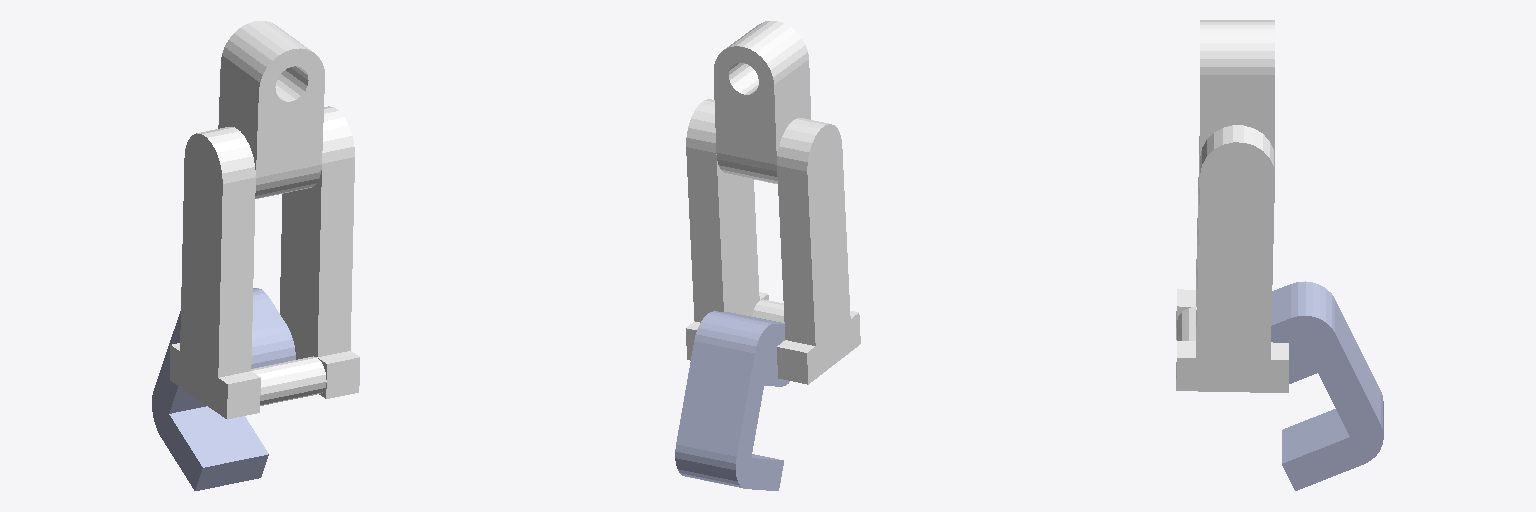
The robot description file, URDF, robot "claw and rod":
<?xml version="1.0" encoding="utf-8"?>
<!-- This URDF was automatically created by SolidWorks to URDF Exporter! Originally created by Stephen Brawner (brawner@gmail.com) 
     Commit Version: 1.5.1-0-g916b5db  Build Version: 1.5.7152.31018
     For more information, please see http://wiki.ros.org/sw_urdf_exporter -->
<robot
  name="claw and rod">
  <link
    name="P_base_Link">
    <inertial>
      <origin
        xyz="-0.00628475211178421 1.66533453693773E-16 -0.201786859514905"
        rpy="0 0 0" />
      <mass
        value="6.45985390928753" />
      <inertia
        ixx="0.0831917714950416"
        ixy="-2.1074179727687E-18"
        ixz="-0.00141801465827443"
        iyy="0.0556863824606013"
        iyz="4.33680868994202E-18"
        izz="0.0377072153961648" />
    </inertial>
    <visual>
      <origin
        xyz="0 0 0"
        rpy="0 0 0" />
      <geometry>
        <mesh
          filename="../meshes/P_base_Link.STL" />
      </geometry>
      <material
        name="">
        <color
          rgba="1 1 1 0.5" />
      </material>
    </visual>
    <collision>
      <origin
        xyz="0 0 0"
        rpy="0 0 0" />
      <geometry>
        <mesh
          filename="../meshes/P_base_Link.STL" />
      </geometry>
    </collision>
  </link>
  <link
    name="P_1_Link">
    <inertial>
      <origin
        xyz="-0.0624987499885627 -0.000395284538354929 8.43769498715119E-15"
        rpy="0 0 0" />
      <mass
        value="2.29977871437821" />
      <inertia
        ixx="0.00397637430948402"
        ixy="-3.76691550020759E-05"
        ixz="4.87890977618477E-18"
        iyy="0.00993203585865657"
        iyz="9.14795583034644E-20"
        izz="0.00993227410397424" />
    </inertial>
    <visual>
      <origin
        xyz="0 0 0"
        rpy="0 0 0" />
      <geometry>
        <mesh
          filename="../meshes/P_1_Link.STL" />
      </geometry>
      <material
        name="">
        <color
          rgba="1 1 1 0.5" />
      </material>
    </visual>
    <collision>
      <origin
        xyz="0 0 0"
        rpy="0 0 0" />
      <geometry>
        <mesh
          filename="../meshes/P_1_Link.STL" />
      </geometry>
    </collision>
  </link>
  <joint
    name="P_base_to_1_Link"
    type="revolute">
    <origin
      xyz="-0.011518 0 -0.36982"
      rpy="-1.5708 -1.5397 0" />
    <parent
      link="P_base_Link" />
    <child
      link="P_1_Link" />
    <axis
      xyz="0 0 1" />
    <limit
      lower="-3.14"
      upper="3.14"
      effort="200000000000000000000000000"
      velocity="20" />
  </joint>
  <link
    name="P_2_Link">
    <inertial>
      <origin
        xyz="0.156837405573848 0.0261395675956409 -1.76941794549634E-16"
        rpy="0 0 0" />
      <mass
        value="6.27444678594554" />
      <inertia
        ixx="0.0415576369787409"
        ixy="-0.0123362492996854"
        ixz="5.89331643381652E-17"
        iyy="0.113519091226907"
        iyz="1.34441069388203E-17"
        izz="0.0901215297519563" />
    </inertial>
    <visual>
      <origin
        xyz="0 0 0"
        rpy="0 0 0" />
      <geometry>
        <mesh
          filename="../meshes/P_2_Link.STL" />
      </geometry>
      <material
        name="">
        <color
          rgba="1 1 1 0.5" />
      </material>
    </visual>
    <collision>
      <origin
        xyz="0 0 0"
        rpy="0 0 0" />
      <geometry>
        <mesh
          filename="../meshes/P_2_Link.STL" />
      </geometry>
    </collision>
  </link>
  <joint
    name="P_1_to_2_Link"
    type="revolute">
    <origin
      xyz="-0.125 -0.00079057 0"
      rpy="1.5708 0.18691 -3.1353" />
    <parent
      link="P_1_Link" />
    <child
      link="P_2_Link" />
    <axis
      xyz="0 0 -1" />
    <limit
      lower="-3.14"
      upper="3.14"
      effort="2000000000000000000"
      velocity="20" />
  </joint>
  <link
    name="P_left_Link">
    <inertial>
      <origin
        xyz="0.0490265983564535 -0.0687165524722106 7.04297731246584E-16"
        rpy="0 0 0" />
      <mass
        value="2.8207521601036" />
      <inertia
        ixx="0.0192159768785392"
        ixy="0.00134300200064639"
        ixz="-3.3684806246409E-17"
        iyy="0.00699321135143647"
        iyz="1.9635335448098E-17"
        izz="0.0215079346298031" />
    </inertial>
    <visual>
      <origin
        xyz="0 0 0"
        rpy="0 0 0" />
      <geometry>
        <mesh
          filename="../meshes/P_left_Link.STL" />
      </geometry>
      <material
        name="">
        <color
          rgba="0.792156862745098 0.819607843137255 0.933333333333333 1" />
      </material>
    </visual>
    <collision>
      <origin
        xyz="0 0 0"
        rpy="0 0 0" />
      <geometry>
        <mesh
          filename="../meshes/P_left_Link.STL" />
      </geometry>
    </collision>
  </link>
  <joint
    name="P_2_to_left_Link"
    type="revolute">
    <origin
      xyz="0.30414 0 0"
      rpy="3.1416 0 -1.4056" />
    <parent
      link="P_2_Link" />
    <child
      link="P_left_Link" />
    <axis
      xyz="0 0 -1" />
    <limit
      lower="-3.14"
      upper="3.14"
      effort="50000000000000000000000"
      velocity="20" />
  </joint>
  <link
    name="P_right_Link">
    <inertial>
      <origin
        xyz="-0.0662799837749544 0.0522736614449653 1.04777297948999E-15"
        rpy="0 0 0" />
      <mass
        value="2.8207521601036" />
      <inertia
        ixx="0.0175401394644868"
        ixy="0.00441345568788353"
        ixz="6.45710156350898E-17"
        iyy="0.00866904876548891"
        iyz="-8.60483830456699E-17"
        izz="0.021507934629803" />
    </inertial>
    <visual>
      <origin
        xyz="0 0 0"
        rpy="0 0 0" />
      <geometry>
        <mesh
          filename="../meshes/P_right_Link.STL" />
      </geometry>
      <material
        name="">
        <color
          rgba="0.792156862745098 0.819607843137255 0.933333333333333 1" />
      </material>
    </visual>
    <collision>
      <origin
        xyz="0 0 0"
        rpy="0 0 0" />
      <geometry>
        <mesh
          filename="../meshes/P_right_Link.STL" />
      </geometry>
    </collision>
  </link>
  <joint
    name="P_2_to_right_Link"
    type="revolute">
    <origin
      xyz="0.2877 0.098639 0"
      rpy="0 0 -1.4056" />
    <parent
      link="P_2_Link" />
    <child
      link="P_right_Link" />
    <axis
      xyz="0 0 -1" />
    <limit
      lower="-3.14"
      upper="3.14"
      effort="50000000000000000000"
      velocity="20" />
  </joint>
</robot>

--- Facts derived from the render (not from the file) ---
Views: 3 orthographic renders of the robot side by side, from view 1: azimuth 30°, elevation 25°; view 2: azimuth 150°, elevation 25°; view 3: azimuth 270°, elevation 25°.
Robot: claw and rod — 5 links, 4 joints (4 revolute); root link P_base_Link; default pose: every joint at zero.
Links seen in each view (by area): view 1: P_2_Link, P_1_Link, P_right_Link; view 2: P_2_Link, P_right_Link, P_1_Link; view 3: P_2_Link, P_right_Link, P_1_Link.
Boxes of the visible links, bbox=[...] form: P_2_Link: bbox=[170, 106, 359, 419]; P_1_Link: bbox=[218, 21, 324, 198]; P_right_Link: bbox=[152, 288, 295, 490]; P_2_Link: bbox=[686, 99, 860, 384]; P_right_Link: bbox=[675, 311, 789, 490]; P_1_Link: bbox=[714, 21, 810, 183]; P_2_Link: bbox=[1176, 125, 1288, 392]; P_right_Link: bbox=[1271, 281, 1383, 490]; P_1_Link: bbox=[1200, 20, 1274, 155].
Size in the robot's own frame: 0.2139 by 0.277 by 0.6759 metres.
Meshes: 5 distinct files referenced, 3 mesh visuals loaded (3 binary STL); not drawn: 2 (reference not matched to a file when rendering).
